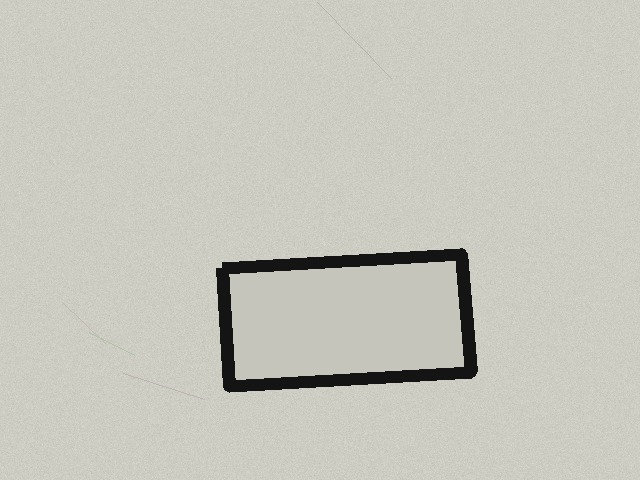parking_area: (222, 254, 471, 386)
